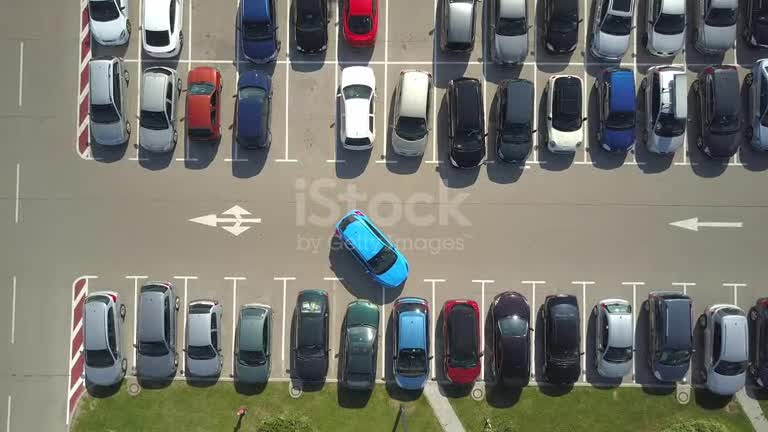car: (335, 210, 408, 287), (692, 65, 741, 158), (699, 304, 748, 395), (644, 291, 693, 381), (135, 282, 179, 379), (640, 65, 687, 153), (83, 291, 126, 385), (490, 292, 532, 386), (392, 297, 431, 389), (139, 66, 181, 151), (89, 57, 130, 144), (542, 294, 581, 383), (340, 300, 379, 389), (447, 77, 485, 168), (391, 70, 431, 156), (595, 67, 635, 151), (293, 290, 329, 381), (443, 300, 482, 384), (495, 79, 534, 162), (233, 304, 272, 385), (593, 299, 633, 377), (338, 66, 375, 149), (184, 299, 222, 376), (546, 75, 584, 152), (235, 71, 271, 147), (239, 0, 281, 63), (590, 0, 634, 60), (185, 66, 221, 139), (489, 0, 529, 63), (141, 0, 184, 58), (693, 0, 738, 54), (643, 0, 686, 56), (744, 59, 767, 150), (544, 0, 581, 53), (88, 0, 130, 45), (293, 0, 328, 53), (439, 0, 475, 51), (748, 297, 767, 387), (343, 0, 377, 46), (742, 0, 767, 47)
